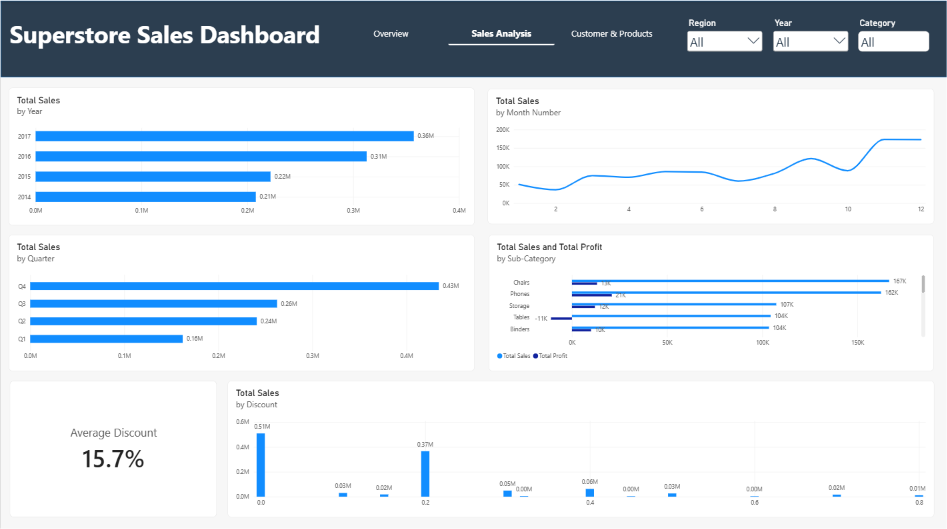

The dashboard page shown, as its layout file describes it:
{"tool":"powerbi","page":{"name":"Sales Analysis","canvas":[1920,1080],"ordinal":1},"visuals":[{"type":"shape","box":[0,0,1919.3,155.3],"z":0},{"type":"clusteredBarChart","fields":{"Category":["DimDate.Year"],"Y":["FactSales.Total Sales"]},"box":[16.3,176.8,944.5,279.2],"z":1000},{"type":"lineChart","fields":{"Category":["DimDate.Month Number"],"Y":["FactSales.Total Sales"]},"box":[987.3,178.2,905.5,274.6],"z":2000},{"type":"clusteredBarChart","fields":{"Category":["DimDate.Quarter"],"Y":["FactSales.Total Sales"]},"box":[16.3,474.6,944.5,276.8],"z":3000},{"type":"cardVisual","fields":{"Data":["FactSales.Average Discount"]},"box":[17.5,770,420,277.5],"z":4000},{"type":"clusteredBarChart","fields":{"Category":["DimProduct.Sub-Category"],"Y":["FactSales.Total Sales","FactSales.Total Profit"]},"box":[988.7,474.6,902.6,276.8],"z":5000},{"type":"clusteredColumnChart","fields":{"Category":["FactSales.Discount"],"Y":["FactSales.Total Sales"]},"box":[460,770,1432.5,277.5],"z":6000},{"type":"slicer","fields":{"Values":["DimDate.Year"]},"box":[1560.6,33.9,162.1,82.9],"z":7000},{"type":"slicer","fields":{"Values":["DimCustomer.Region"]},"box":[1387.2,33.9,162.1,82.9],"z":8000},{"type":"slicer","fields":{"Values":["DimProduct.Category"]},"box":[1734,33.9,154.6,86.7],"z":9000},{"type":"textbox","box":[17.5,35.1,665.5,77.2],"z":10000},{"type":"pageNavigator","box":[683.2,42.5,666.1,48.2],"z":11000}]}

Visuals, with their boxes in screenshot pixels (x1, y1, x2, y2), scaled from the page's 1920x1080 canvas onto the 947x529 screenshot:
shape: 0/0/946/76
clusteredBarChart - DimDate.Year x FactSales.Total Sales: 8/87/474/223
lineChart - DimDate.Month Number x FactSales.Total Sales: 487/87/934/222
clusteredBarChart - DimDate.Quarter x FactSales.Total Sales: 8/232/474/368
cardVisual - FactSales.Average Discount: 9/377/216/513
clusteredBarChart - DimProduct.Sub-Category x FactSales.Total Sales: 488/232/933/368
clusteredColumnChart - FactSales.Discount x FactSales.Total Sales: 227/377/933/513
slicer - DimDate.Year: 770/17/850/57
slicer - DimCustomer.Region: 684/17/764/57
slicer - DimProduct.Category: 855/17/932/59
textbox: 9/17/337/55
pageNavigator: 337/21/666/44
